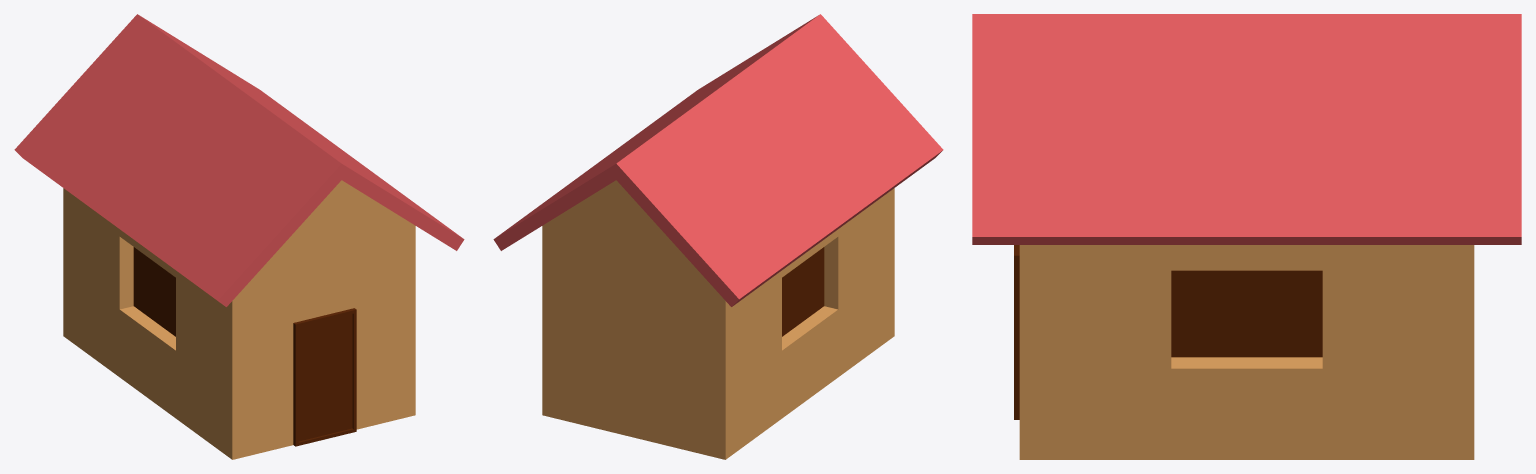
Rendered from house.glb.
3 views of the same model, side by side, from view 1: azimuth 30°, elevation 25°; view 2: azimuth 150°, elevation 25°; view 3: azimuth 270°, elevation 25° (orthographic). The views are drawn at different scales.
Visible parts, largest first — view 1: Cube; view 2: Cube; view 3: Cube.
Part boxes in pixels (x1,y1,x2,y2): Cube: (14,14,464,459); Cube: (493,14,943,459); Cube: (972,14,1521,459).
Size of the model in its own units: 2.68 by 3 by 3.87.
